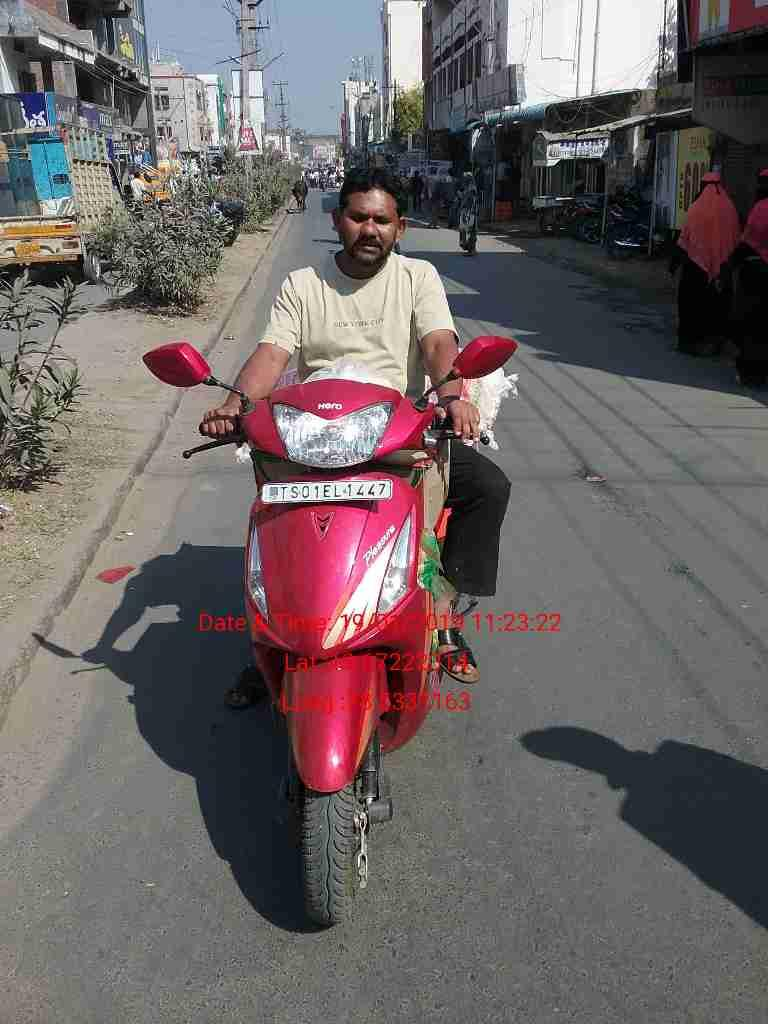plate: (260, 478, 396, 502)
